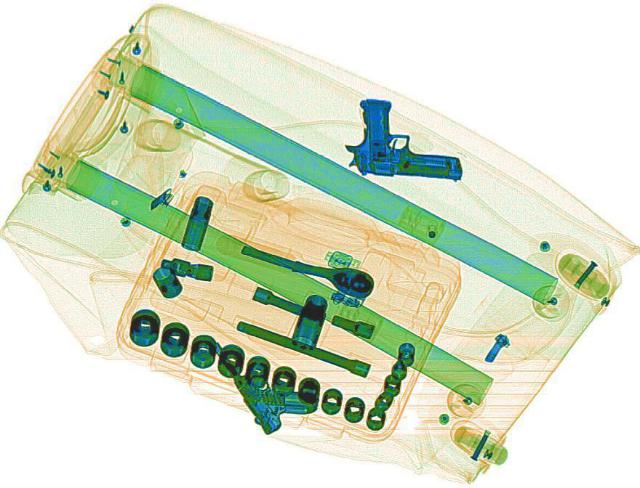Gun: (206, 320, 324, 433), (338, 96, 474, 181)
